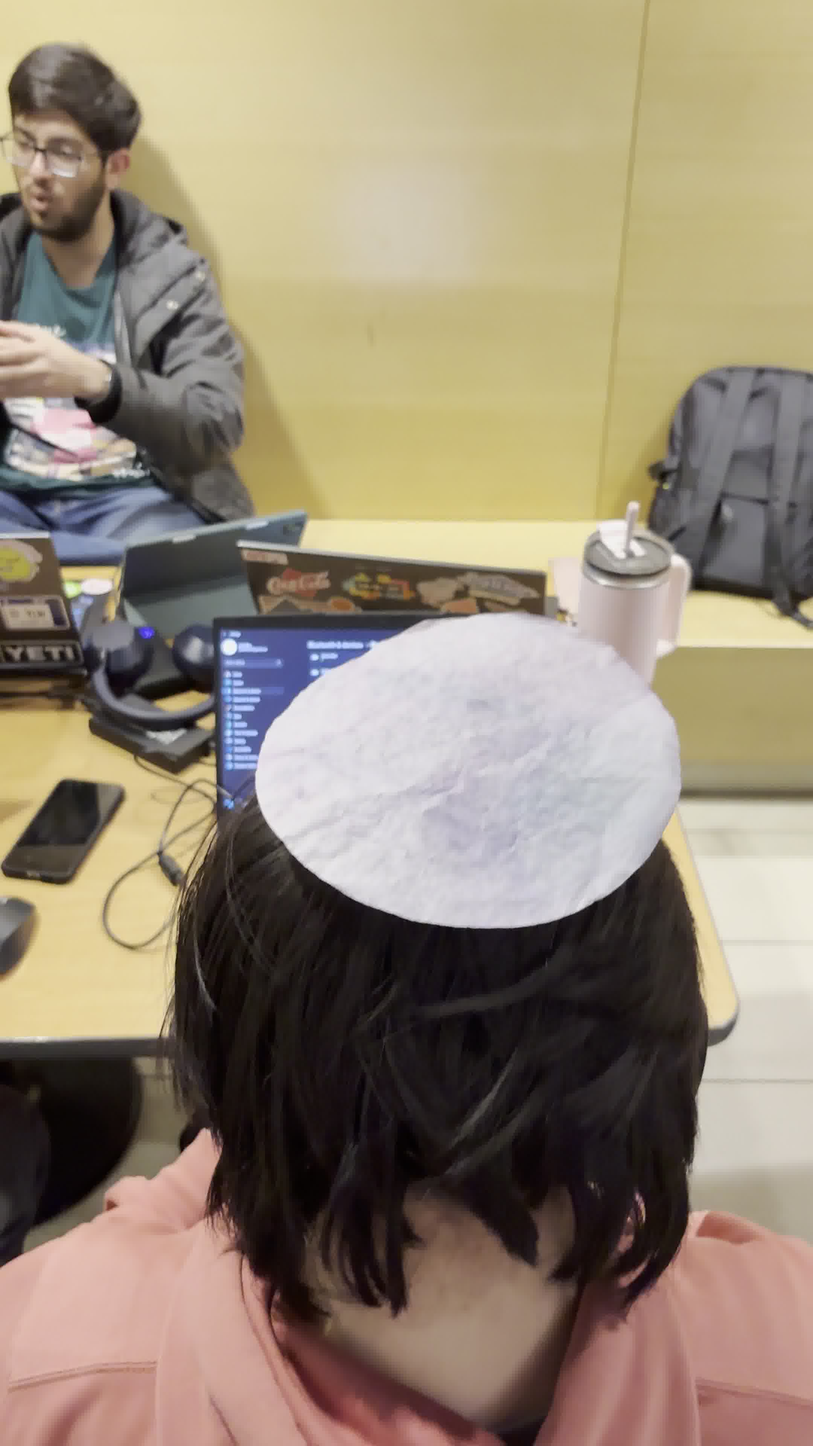Target: (254, 611, 680, 929)
